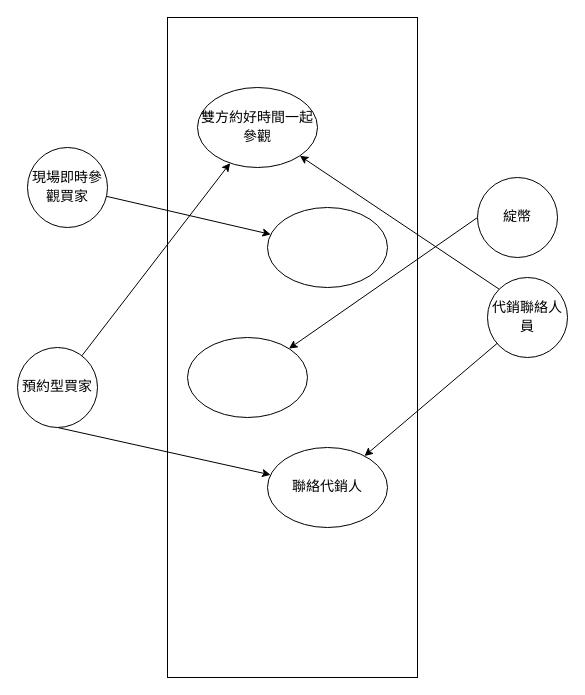
This 585x695 diagram has some shape labels left out. Here are the shapes that lost their labels. From the top down, the centre of each, then its label:
pixel 327 247: 立即在現場觀看
pixel 247 377: 設計一套軟體
